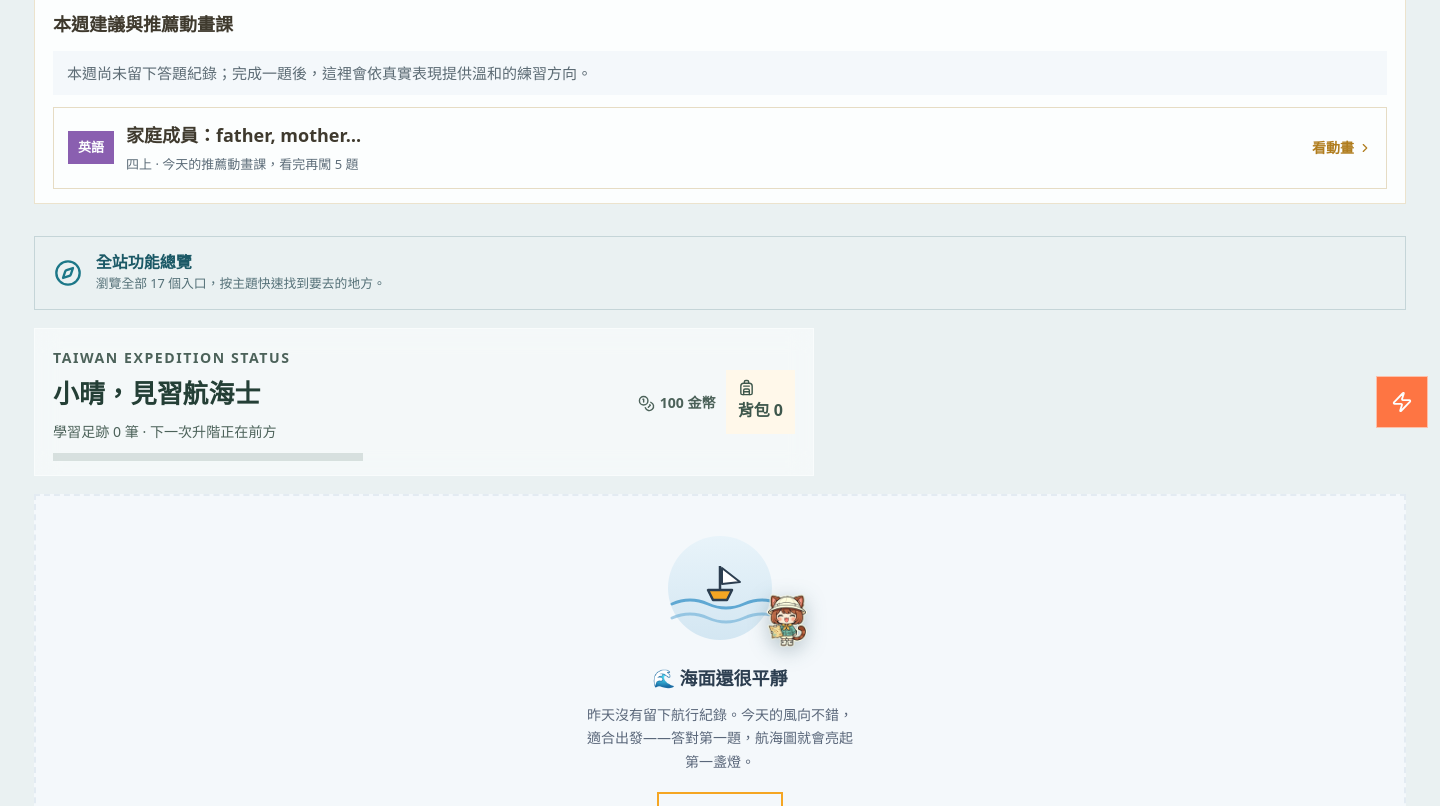
Test case: 首頁沉浸式儀表板 › 從 playerData 與既有本機進度顯示狀態，並以非模態面板呈現特產背包
(page scrolled)
Check: the heading "小晴，見習航海士" is shown, box top-left (53, 375), bottom-right (260, 411)
Click the button "背包 0" at (760, 402), box top-left (726, 370), bottom-right (795, 434)
(page scrolled)
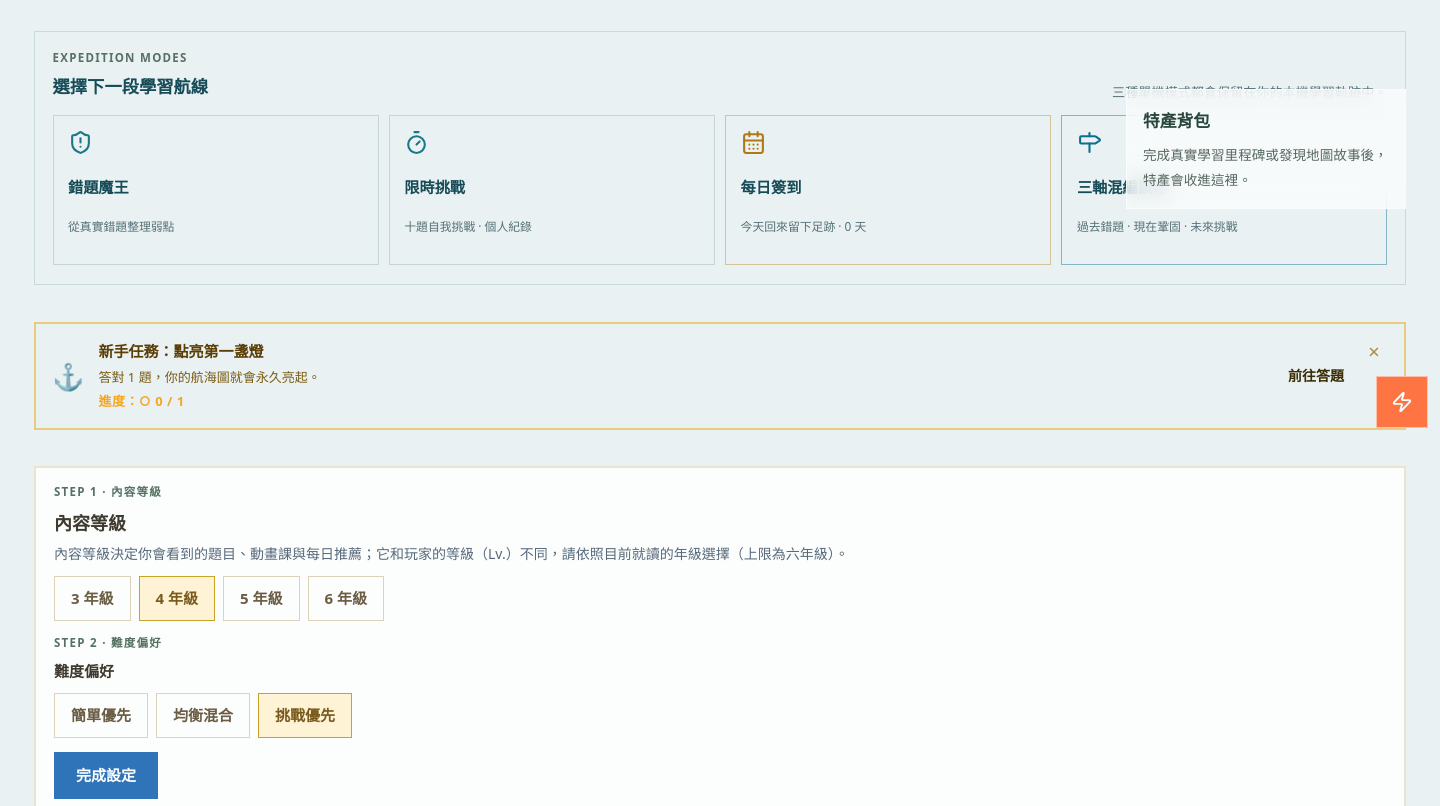
Check: the element "特產背包" shows "完成真實學習里程碑", box top-left (1143, 145), bottom-right (1388, 189)
